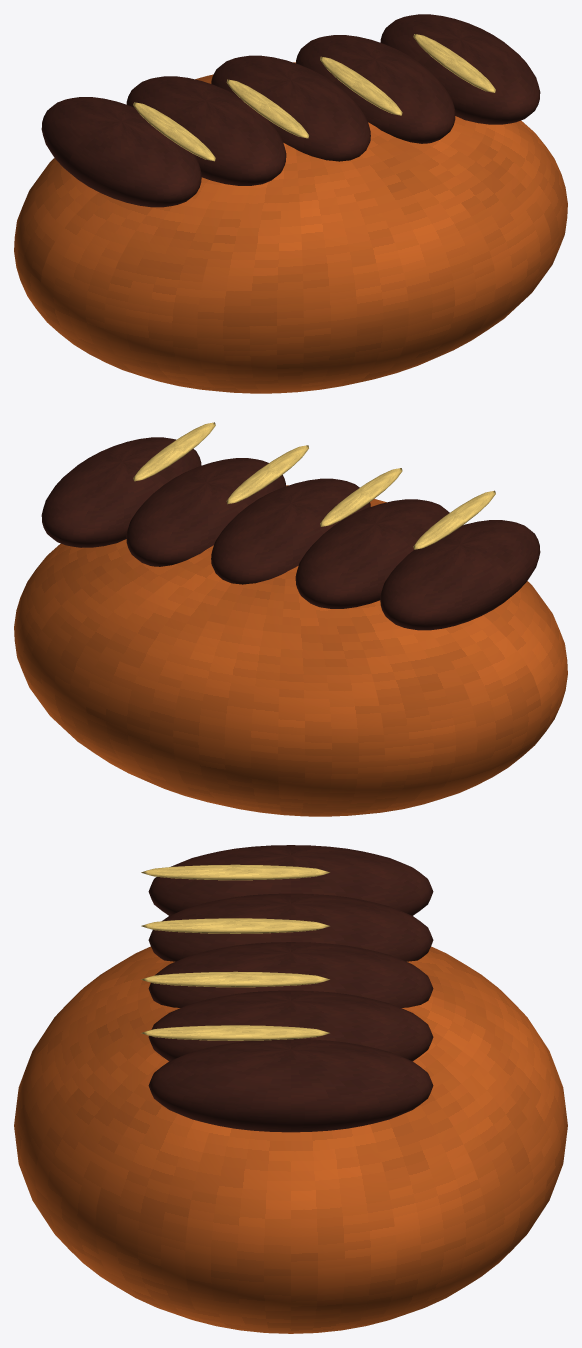
The model's file is bread_chocolate.glb.
3 renders of one model, top to bottom at view 1: azimuth 30°, elevation 25°; view 2: azimuth 150°, elevation 25°; view 3: azimuth 270°, elevation 25°, orthographic. The views are drawn at different scales.
Parts seen in each view (by area): view 1: チョコぱんの生地, ひと口チョコの列, ひと口チョコの列.001, ひと口チョコの列.004, ひと口チョコの列.003, ひと口チョコの列.002, つやのあるチョコ筋.001, つやのあるチョコ筋.002, つやのあるチョコ筋.003, つやのあるチョコ筋; view 2: チョコぱんの生地, ひと口チョコの列, ひと口チョコの列.001, ひと口チョコの列.004, ひと口チョコの列.003, ひと口チョコの列.002, つやのあるチョコ筋, つやのあるチョコ筋.001, つやのあるチョコ筋.002, つやのあるチョコ筋.003; view 3: チョコぱんの生地, ひと口チョコの列.004, ひと口チョコの列, ひと口チョコの列.001, ひと口チョコの列.003, ひと口チョコの列.002, つやのあるチョコ筋.003, つやのあるチョコ筋.001, つやのあるチョコ筋.002, つやのあるチョコ筋.
Boxes of the visible parts, x1=… form: チョコぱんの生地: x1=14, y1=62, x2=567, y2=393; ひと口チョコの列: x1=41, y1=97, x2=201, y2=207; ひと口チョコの列.001: x1=126, y1=76, x2=286, y2=185; ひと口チョコの列.004: x1=380, y1=14, x2=540, y2=124; ひと口チョコの列.003: x1=296, y1=35, x2=455, y2=143; ひと口チョコの列.002: x1=211, y1=55, x2=370, y2=161; つやのあるチョコ筋.001: x1=226, y1=79, x2=308, y2=138; つやのあるチョコ筋.002: x1=320, y1=56, x2=402, y2=115; つやのあるチョコ筋.003: x1=413, y1=34, x2=495, y2=92; つやのあるチョコ筋: x1=133, y1=102, x2=215, y2=161; チョコぱんの生地: x1=14, y1=485, x2=567, y2=816; ひと口チョコの列: x1=380, y1=520, x2=540, y2=630; ひと口チョコの列.001: x1=295, y1=499, x2=449, y2=608; ひと口チョコの列.004: x1=41, y1=437, x2=201, y2=547; ひと口チョコの列.003: x1=126, y1=458, x2=285, y2=566; ひと口チョコの列.002: x1=211, y1=478, x2=370, y2=584; つやのあるチョコ筋: x1=413, y1=490, x2=495, y2=549; つやのあるチョコ筋.001: x1=320, y1=468, x2=402, y2=526; つやのあるチョコ筋.002: x1=226, y1=445, x2=308, y2=504; つやのあるチョコ筋.003: x1=133, y1=422, x2=215, y2=481; チョコぱんの生地: x1=14, y1=946, x2=567, y2=1333; ひと口チョコの列.004: x1=148, y1=1039, x2=433, y2=1132; ひと口チョコの列: x1=148, y1=845, x2=433, y2=915; ひと口チョコの列.001: x1=148, y1=893, x2=433, y2=961; ひと口チョコの列.003: x1=148, y1=990, x2=433, y2=1061; ひと口チョコの列.002: x1=148, y1=942, x2=433, y2=1007; つやのあるチョコ筋.003: x1=141, y1=1025, x2=329, y2=1040; つやのあるチョコ筋.001: x1=141, y1=918, x2=329, y2=933; つやのあるチョコ筋.002: x1=141, y1=971, x2=329, y2=987; つやのあるチョコ筋: x1=141, y1=864, x2=329, y2=880.
Size of the model in its own units: 0.86 by 0.458 by 0.7.
Materials: 3 (3 with a texture image).
